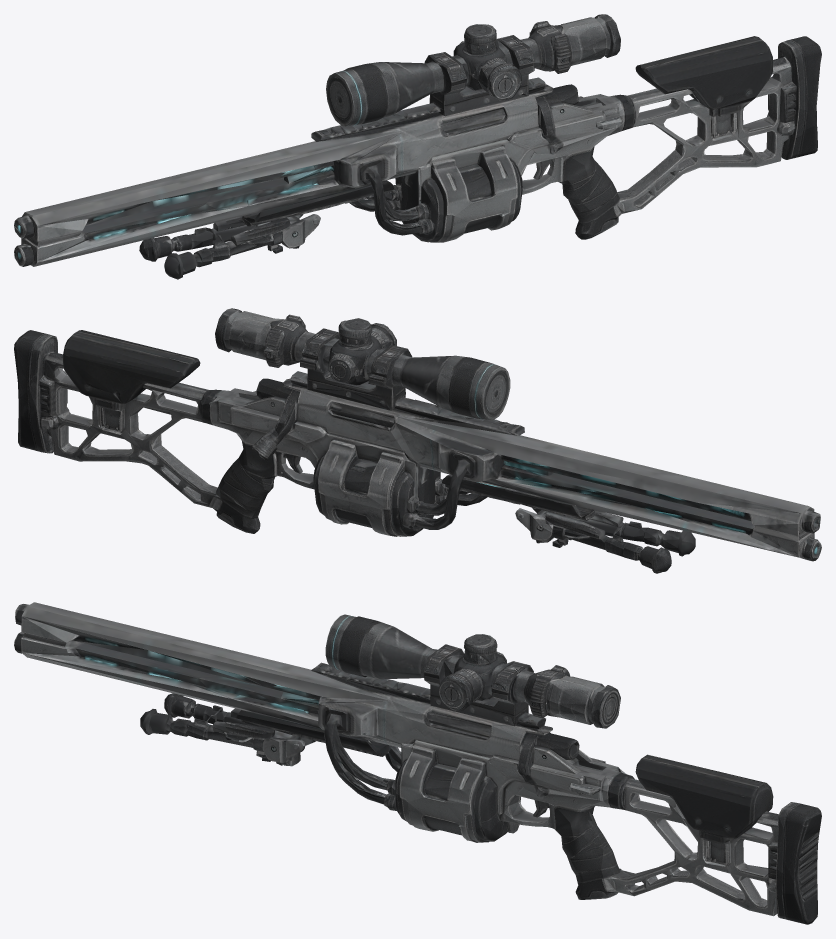
Rendered from rail_sniper.glb.
The picture shows the model from 3 angles, top to bottom: view 1: azimuth 30°, elevation 25°; view 2: azimuth 150°, elevation 25°; view 3: azimuth 330°, elevation 25°; orthographic projection.
Parts seen in each view (by area): view 1: Mesh_0; view 2: Mesh_0; view 3: Mesh_0.
Part boxes in pixels (box(x1,y1,x2,y2)): Mesh_0: box(14, 14, 821, 279); Mesh_0: box(14, 308, 821, 573); Mesh_0: box(14, 602, 821, 924).
Size of the model in its own units: 1.9 by 0.5316 by 0.235.
1 material, 1 textured.
